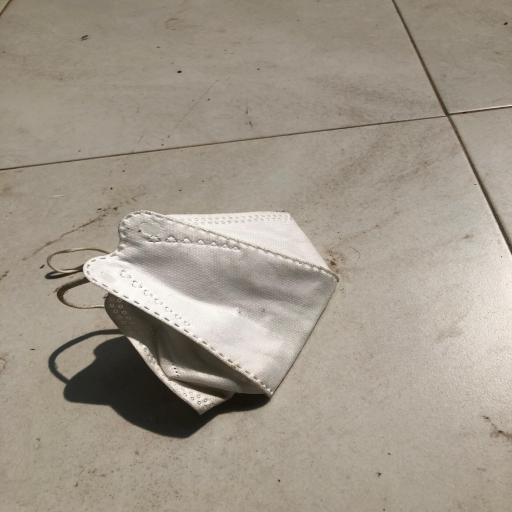waste: (36, 198, 353, 432)
